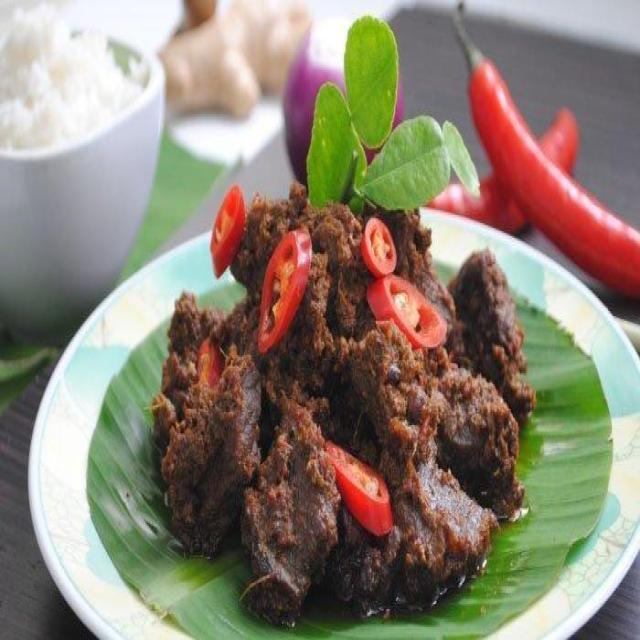Rendang: (120, 167, 582, 619)
